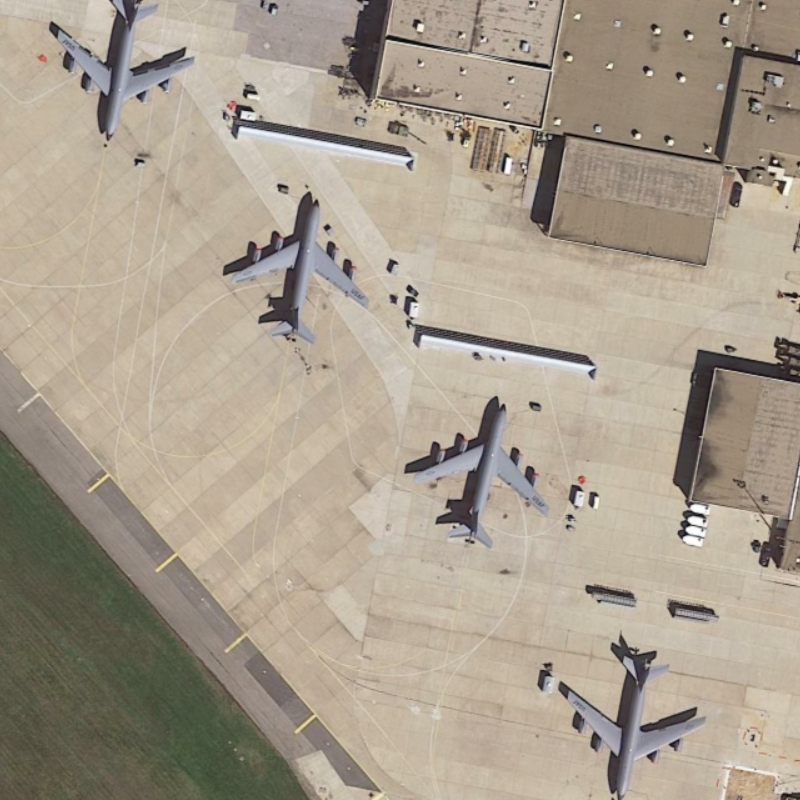A14: (219, 184, 384, 350), (406, 384, 554, 552), (559, 645, 715, 800), (40, 1, 203, 145)
